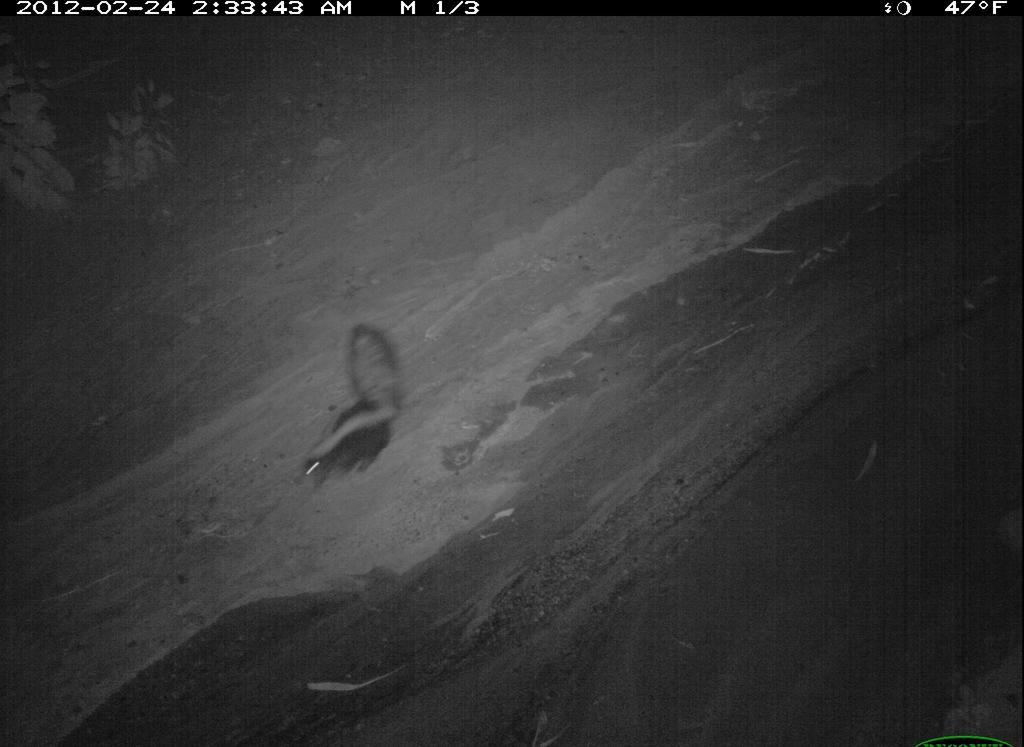skunk: (602, 646, 825, 747)
